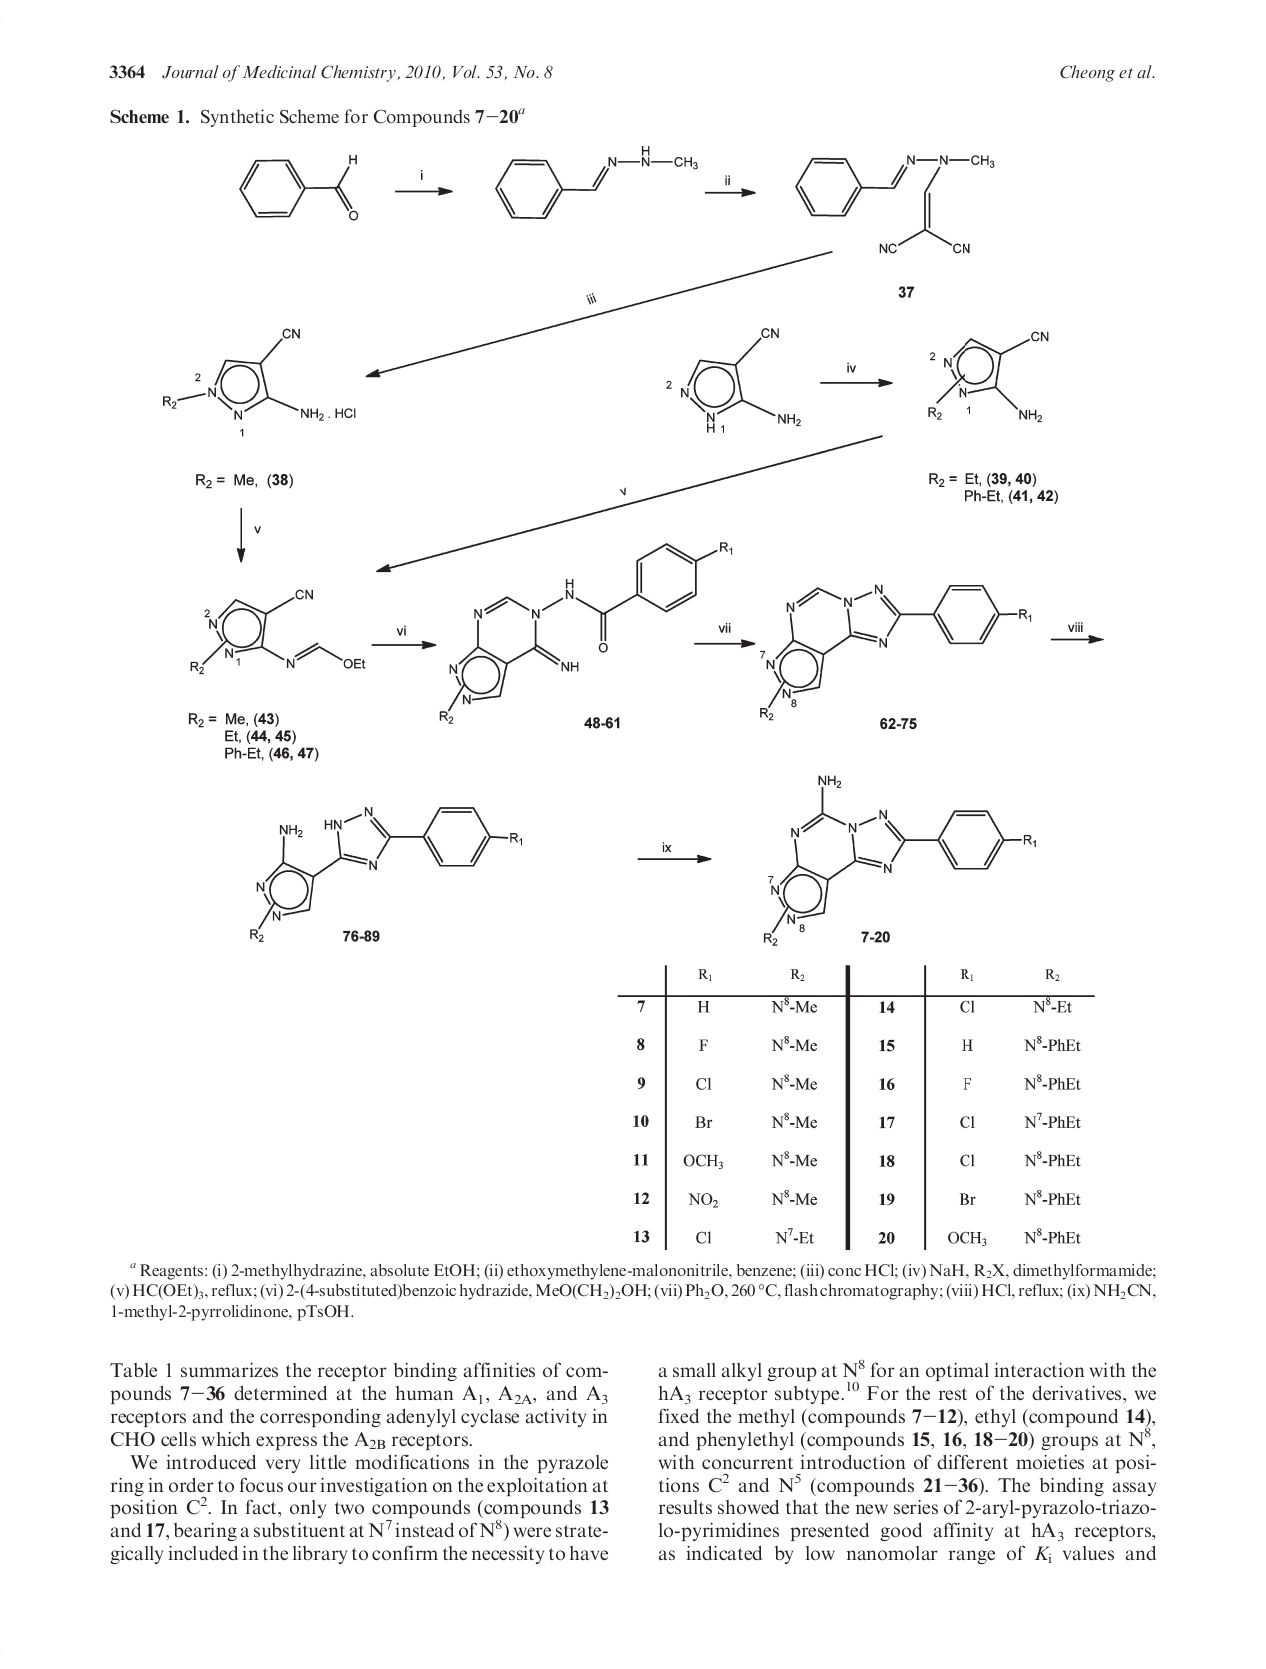exist_molecular: (430, 528, 739, 726), (751, 763, 1041, 947), (243, 797, 525, 944), (753, 578, 1039, 723), (157, 323, 362, 434), (797, 148, 1000, 255), (492, 142, 715, 227), (662, 319, 806, 439), (181, 586, 368, 677), (922, 323, 1059, 432), (239, 146, 362, 227)
